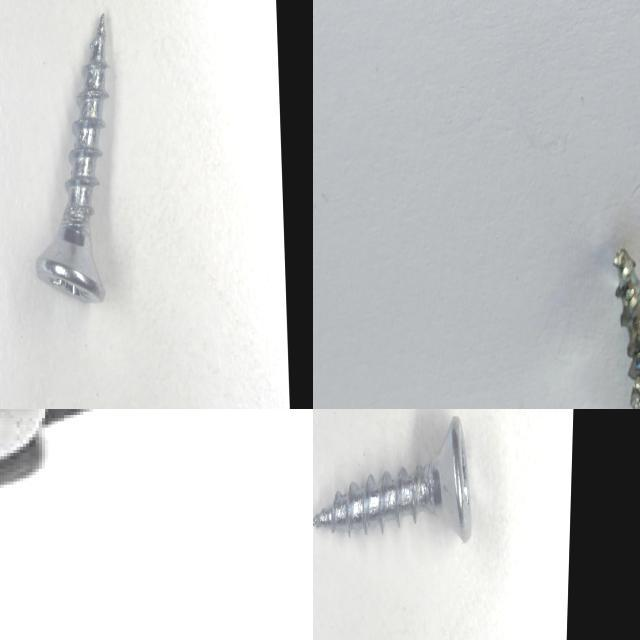Screw: (36, 13, 108, 301), (313, 415, 472, 541), (614, 248, 640, 409)
